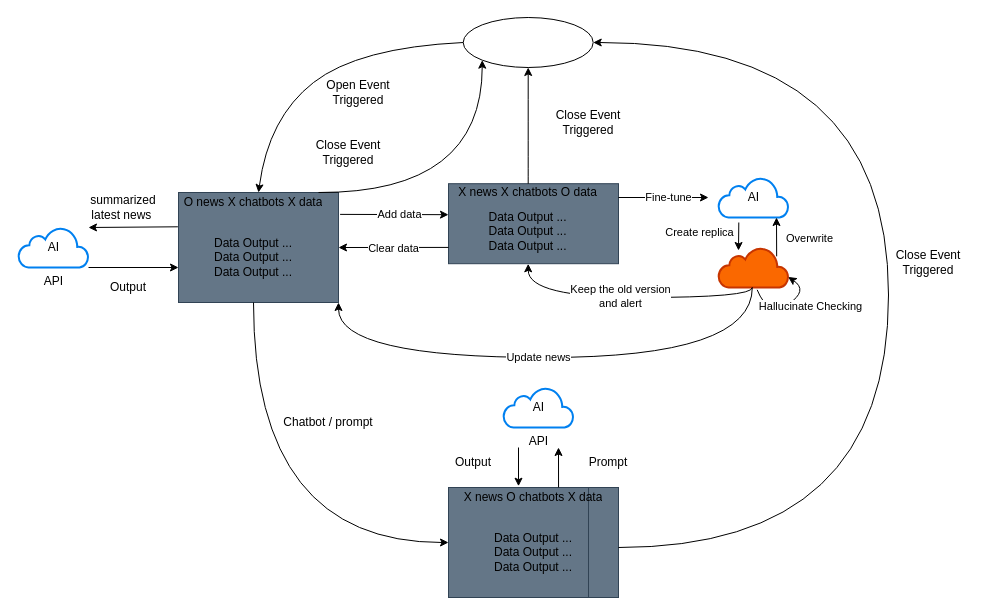
This 995x615 diagram has some shape labels left out. The shapes that lost their labels are listed below. From the top down, each one's centre as x and y in pixels, then its label:
point 527,42: Background Process
point 753,267: copied AI
